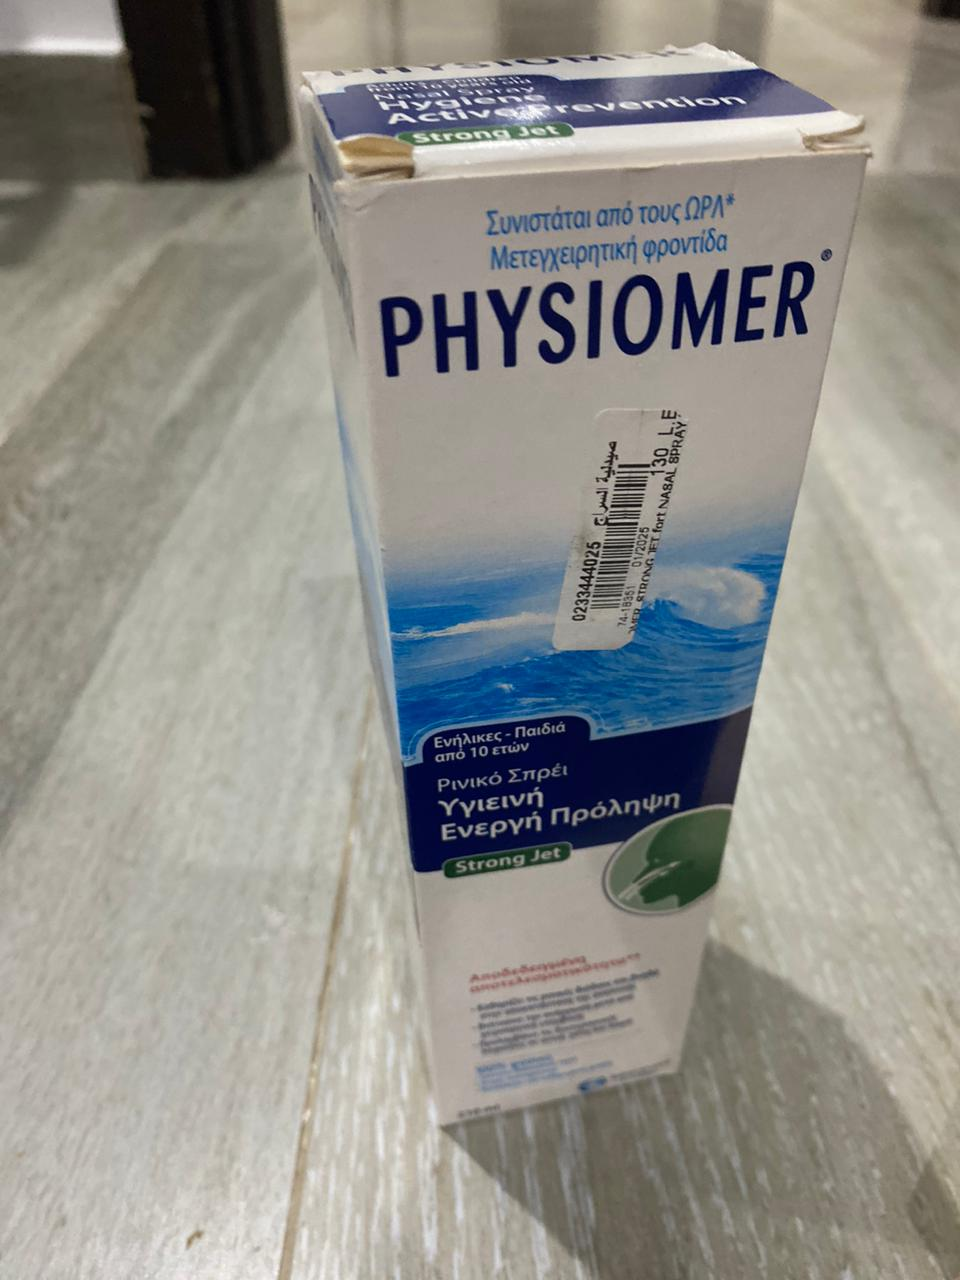Physiomer: (287, 39, 883, 1141)
